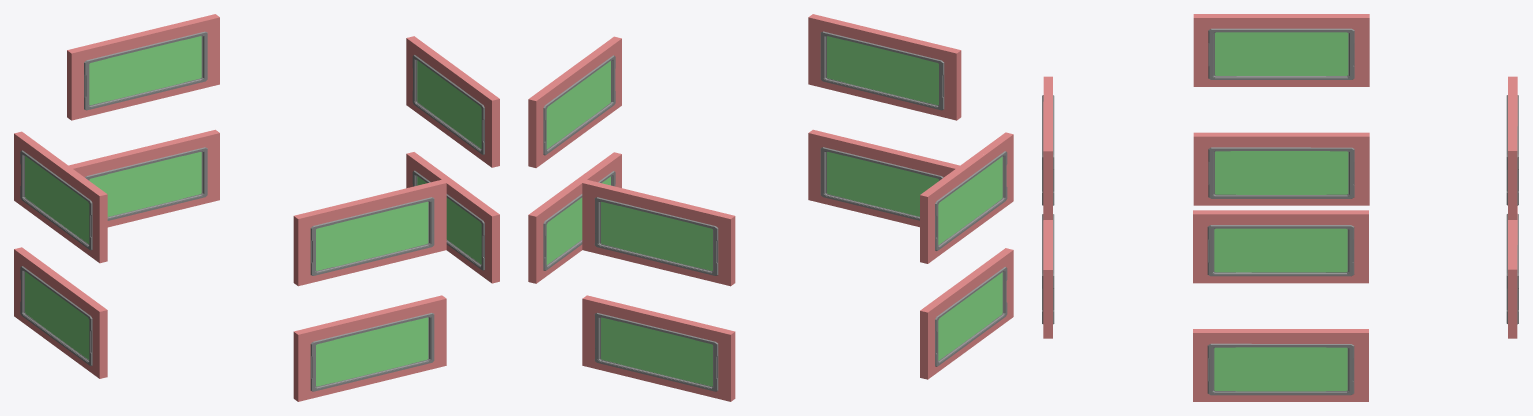
Rendered from S_Envi_Central_Props_025.gltf.
3 renders of one model, left to right at view 1: azimuth 30°, elevation 25°; view 2: azimuth 150°, elevation 25°; view 3: azimuth 270°, elevation 25°, orthographic. The views are drawn at different scales.
Visible parts, largest first — view 1: S_Envi_Central_Props_025; view 2: S_Envi_Central_Props_025; view 3: S_Envi_Central_Props_025.
Part boxes in pixels (x1,y1,x2,y2): S_Envi_Central_Props_025: (14,14,499,401); S_Envi_Central_Props_025: (528,14,1013,401); S_Envi_Central_Props_025: (1042,14,1518,401).
Size of the model in its own units: 75.29 by 32.68 by 75.29.
